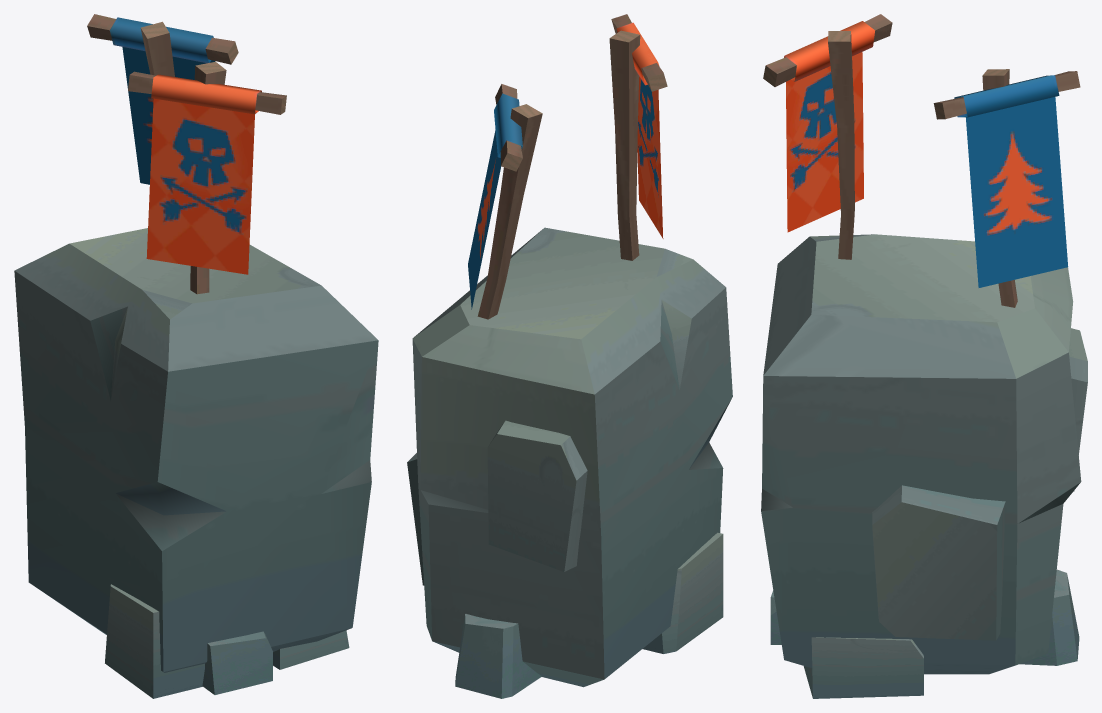
File: Pillar1B-001_02_16_7283.fbx
The picture shows the model from 3 angles, left to right: view 1: azimuth 30°, elevation 25°; view 2: azimuth 150°, elevation 25°; view 3: azimuth 270°, elevation 25°; orthographic projection. The views are drawn at different scales.
Visible parts, largest first — view 1: Monolith3, Flag2 (1) (×2), ClothTop3 (1) (×2), Wood1.002 (1) (×2), WoodTop (1) (×2); view 2: Monolith3, Wood1.002 (1) (×2), Flag2 (1) (×2), ClothTop3 (1) (×2), WoodTop (1) (×2); view 3: Monolith3, Flag2 (1) (×2), Wood1.002 (1) (×2), ClothTop3 (1) (×2), WoodTop (1) (×2).
Boxes of the visible parts, x1,y1,x2,y2 form: Monolith3: [14, 228, 378, 698]; Flag2 (1) (×2): [122, 47, 254, 274]; ClothTop3 (1) (×2): [109, 17, 261, 114]; Wood1.002 (1) (×2): [140, 21, 226, 294]; WoodTop (1) (×2): [87, 14, 286, 114]; Monolith3: [407, 227, 732, 698]; Wood1.002 (1) (×2): [477, 30, 640, 319]; Flag2 (1) (×2): [468, 77, 663, 309]; ClothTop3 (1) (×2): [494, 22, 659, 157]; WoodTop (1) (×2): [495, 14, 667, 171]; Monolith3: [761, 234, 1087, 698]; Flag2 (1) (×2): [786, 52, 1068, 287]; Wood1.002 (1) (×2): [828, 31, 1017, 307]; ClothTop3 (1) (×2): [784, 21, 1059, 117]; WoodTop (1) (×2): [763, 14, 1080, 119].
Bounding box in the file's own units: 2.44 × 6.13 × 3.02.
